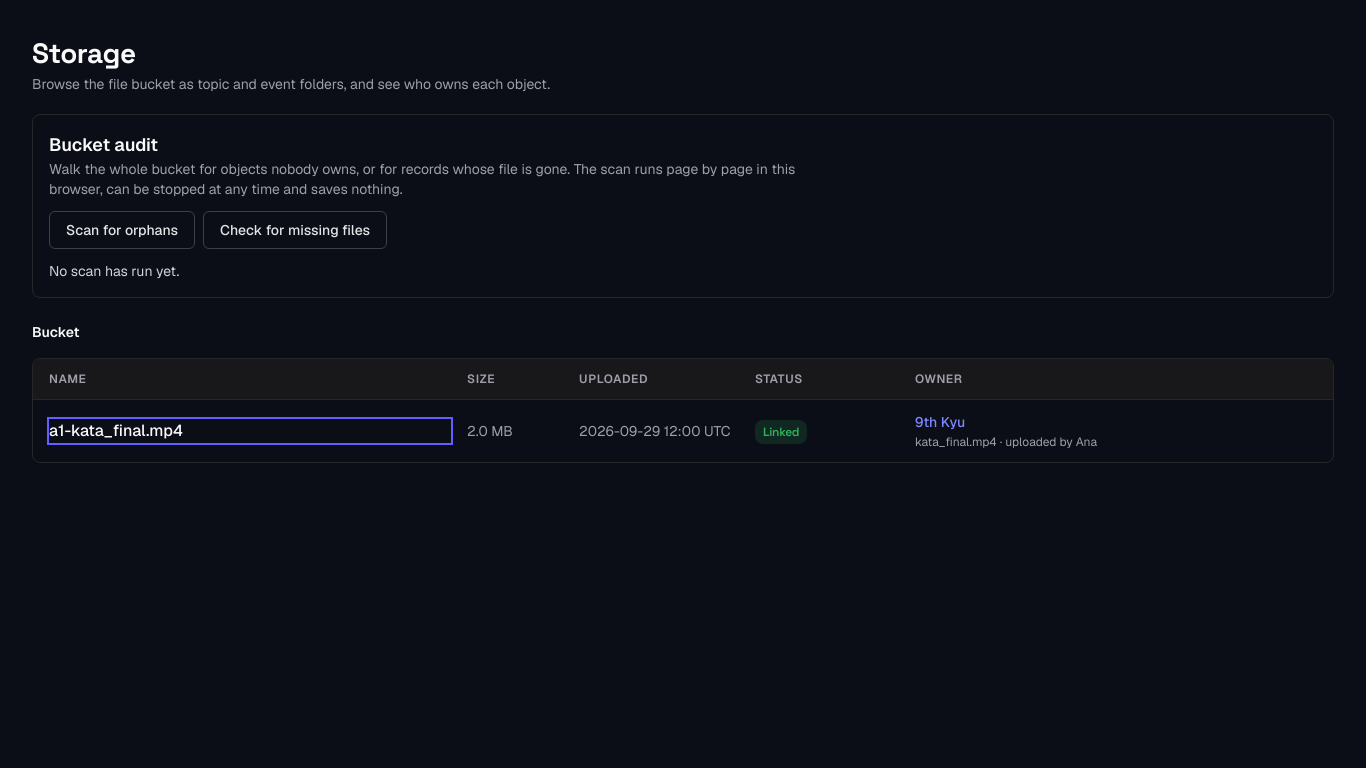
Test: AdminStoragePage › object drawer › reports an object that no longer exists
The image size is (1366, 768).
Click the button "a1-kata_final.mp4" at (116, 430), box [49,419,451,443]
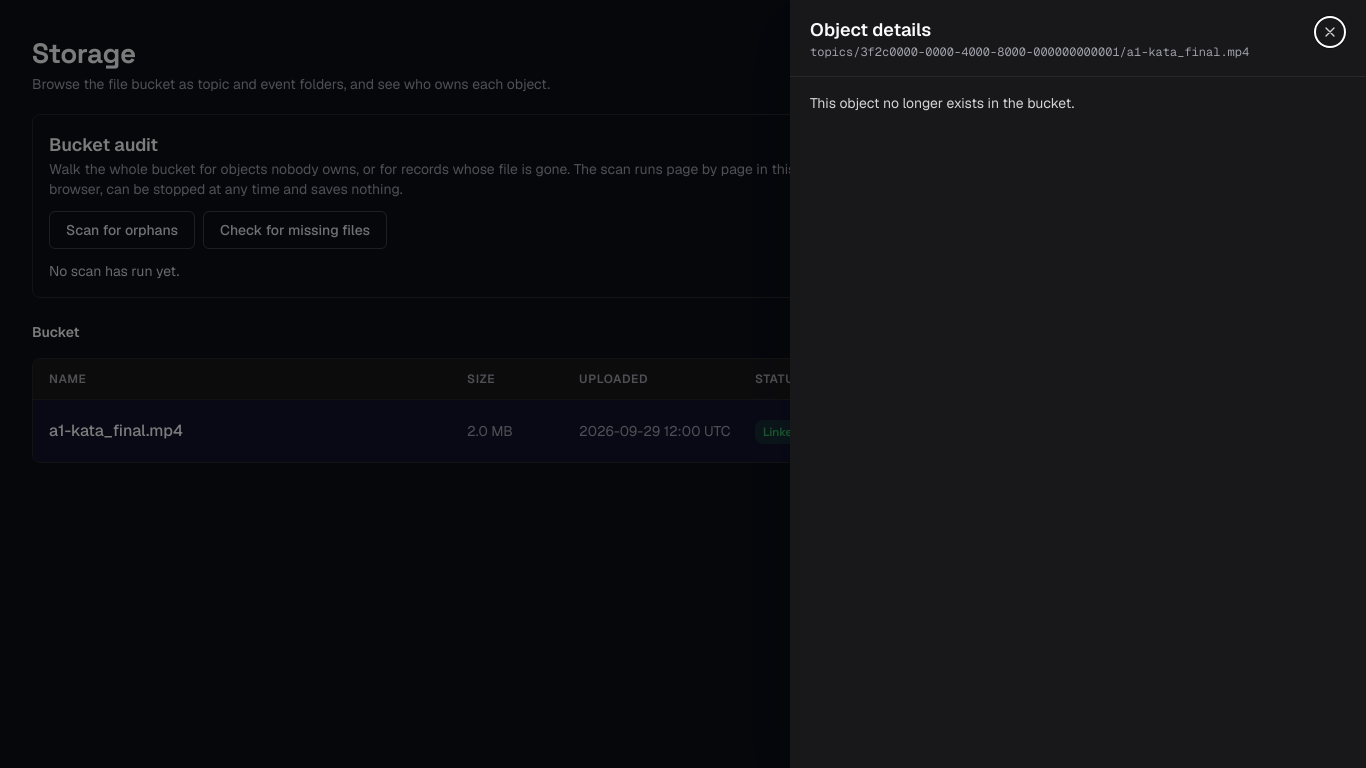
Check: the message reads "This object no longer exists in the bucket.", box [810,94,1074,112]
